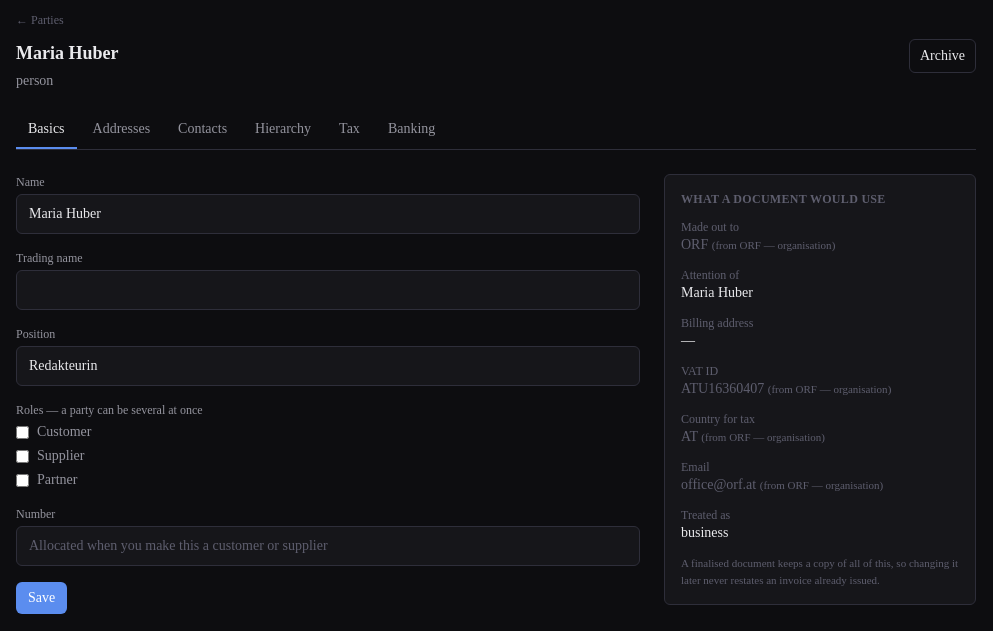
Test: the resolved panel answers “what will the invoice say” › says so when nothing in the hierarchy has an address
The image size is (993, 631).
Click the tab "Addresses".
click(121, 130)  # box [81,111,162,149]
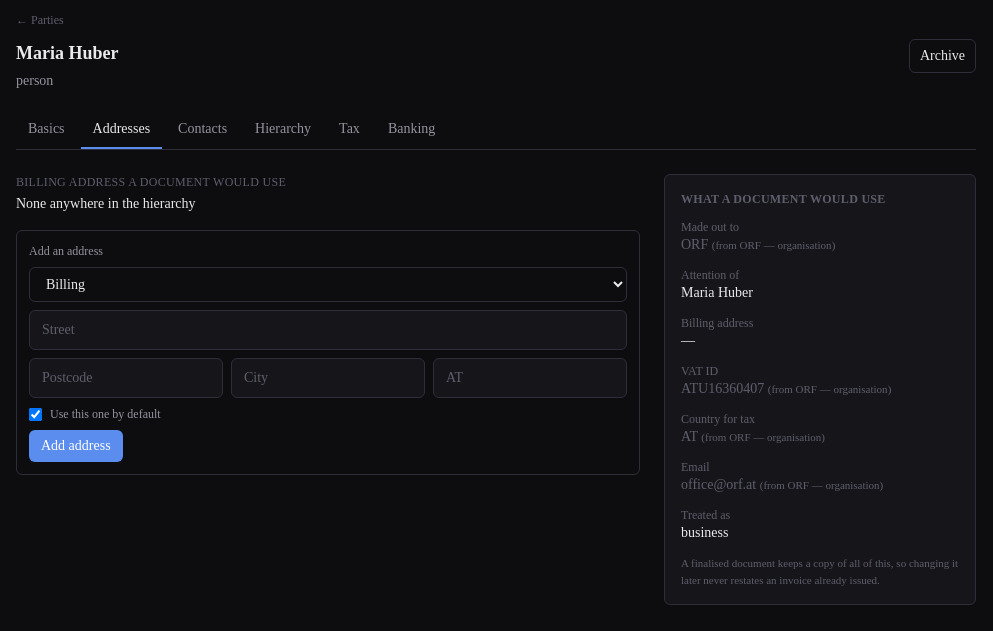
Now the text with test id "party-billing-resolved" reads "None anywhere in the hierarchy", box [16,196,196,211]
